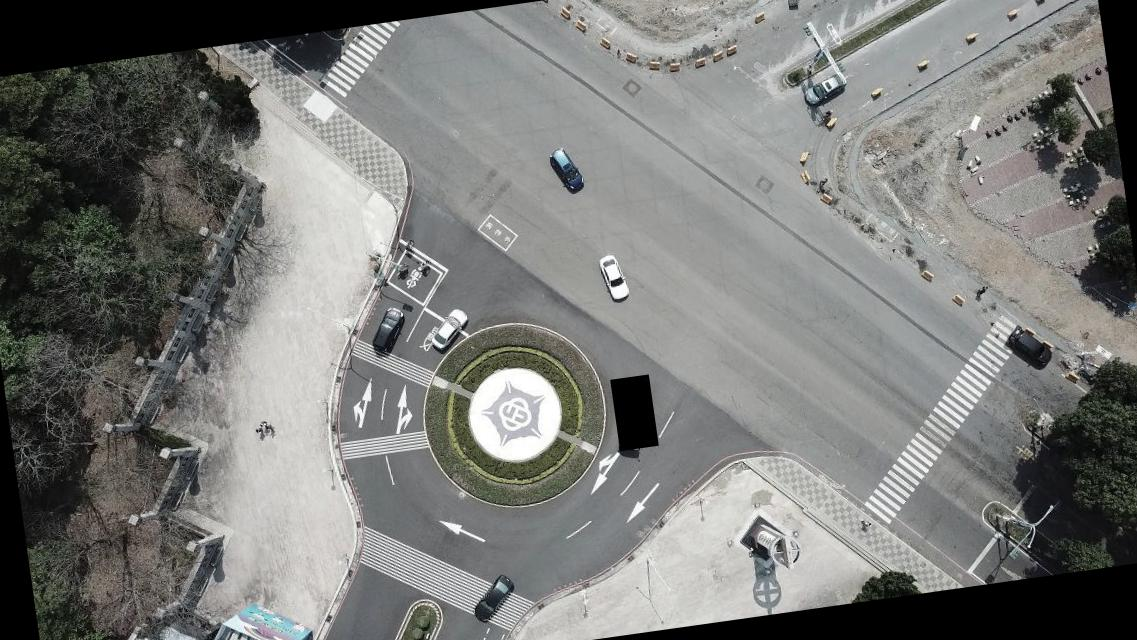vehicle: (468, 573, 518, 625), (1007, 322, 1054, 371), (367, 306, 408, 356), (546, 144, 585, 195), (428, 307, 472, 350), (596, 252, 630, 303), (800, 72, 848, 107)
